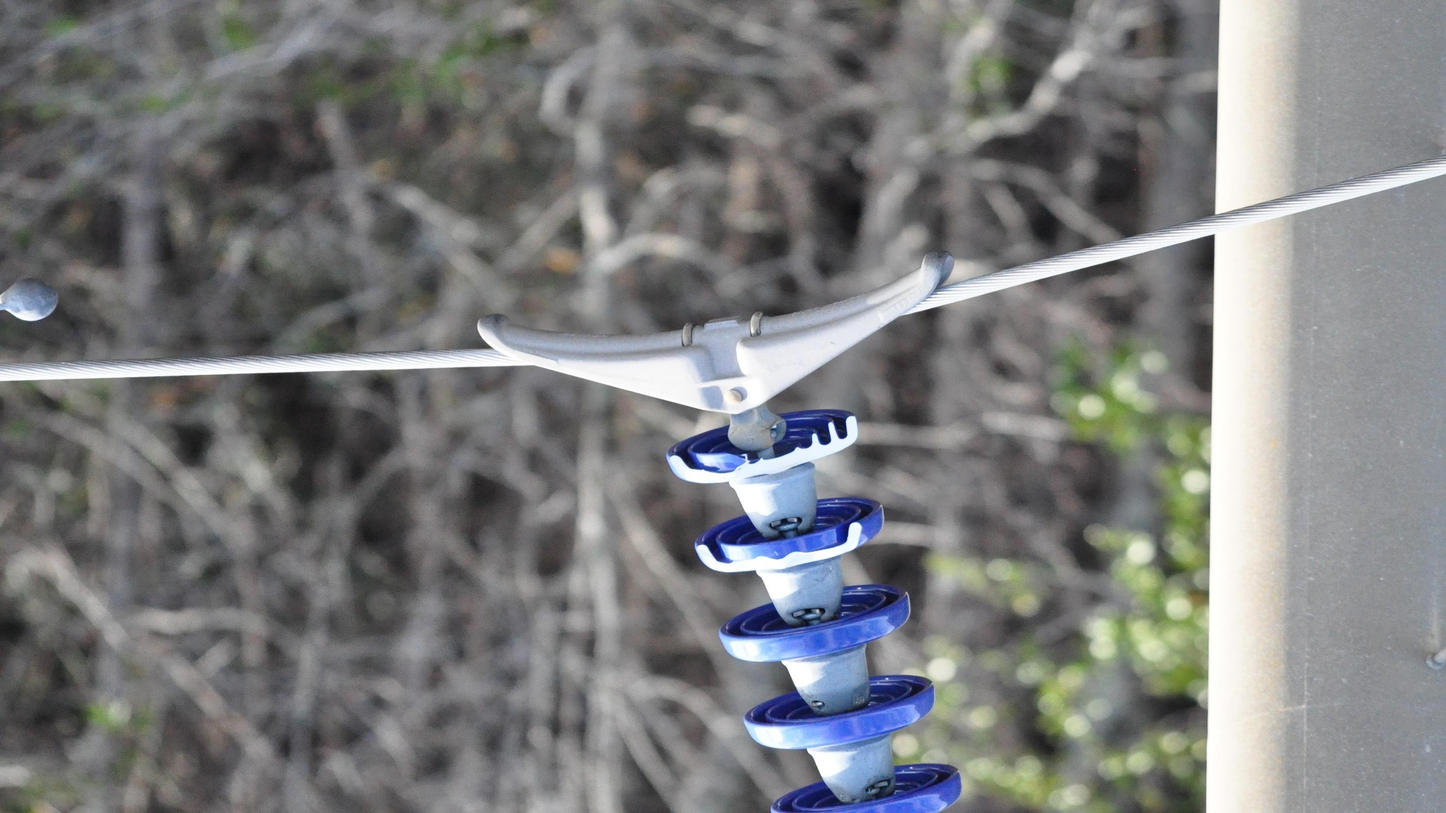insulator: (659, 405, 970, 813)
insulator_breakage: (665, 411, 862, 489), (692, 519, 867, 577)
